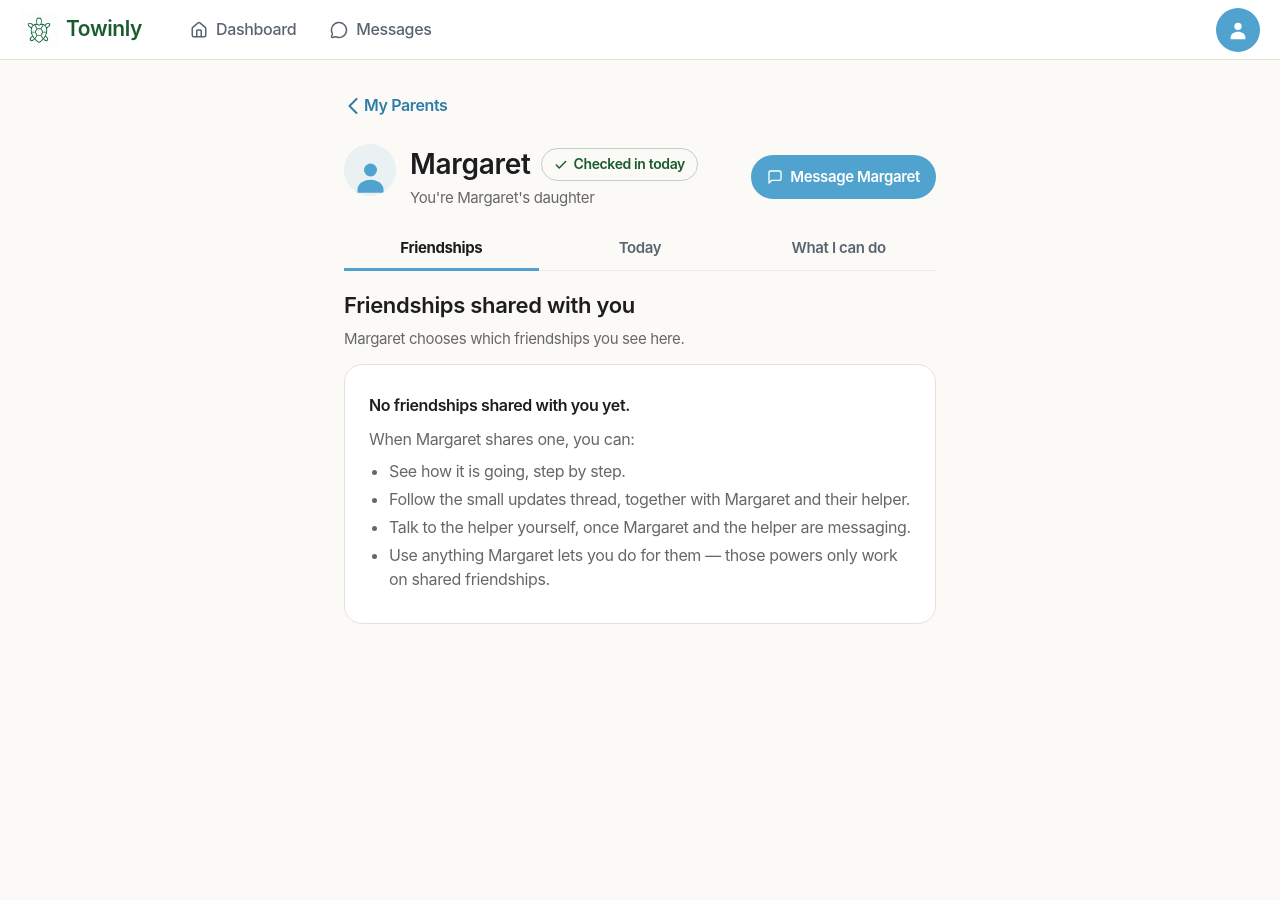
Test: FamilyParent — what I can do (consent flow) › lists every power with its state: on, waiting, or askable
Click the tab "What I can do": (839, 249) [741, 227, 936, 271]
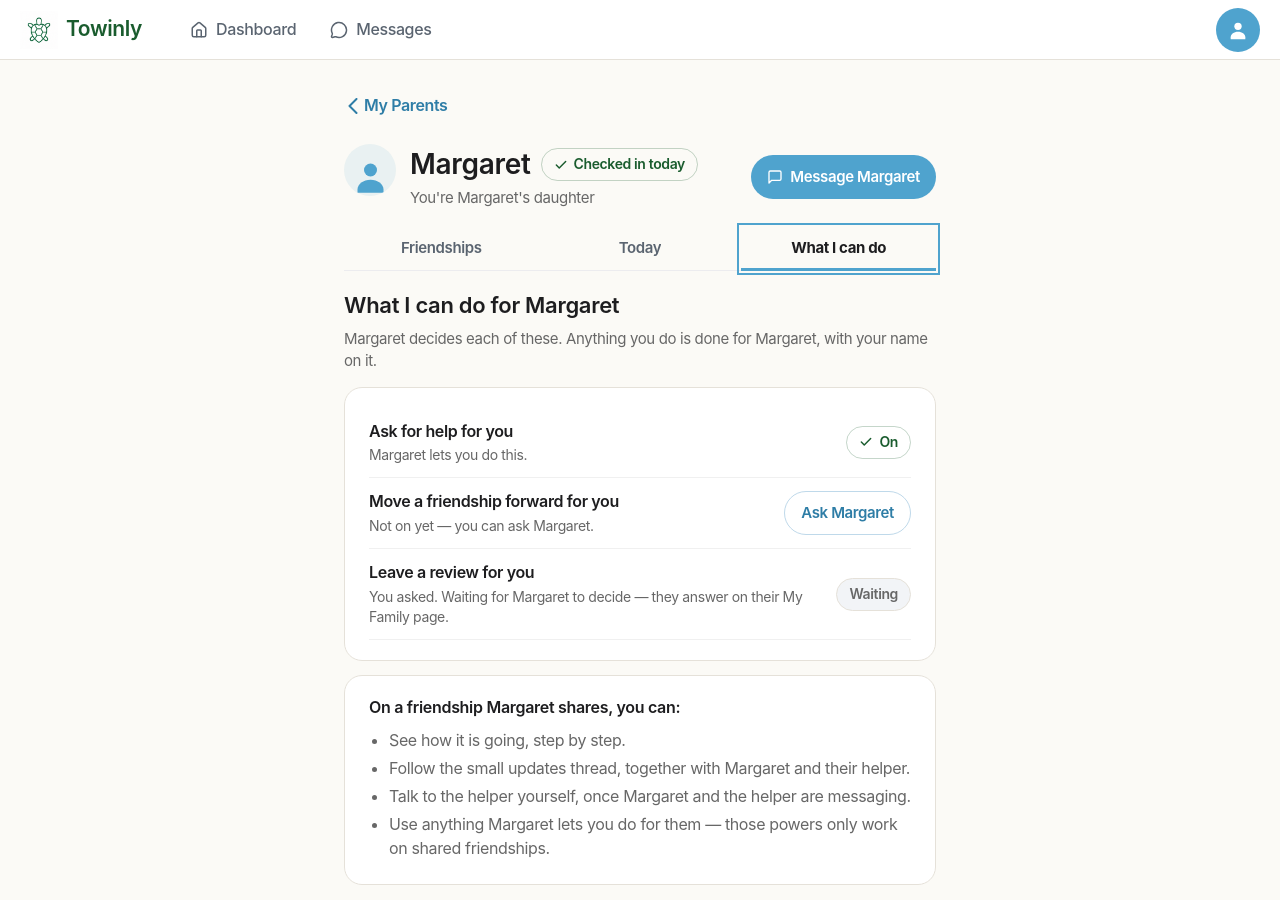
Result: the heading "What I can do for Margaret" is shown at [344, 292, 619, 318]
Result: the text "On" is shown at [846, 426, 911, 459]
Result: the text "Waiting" is shown at [836, 578, 911, 610]
